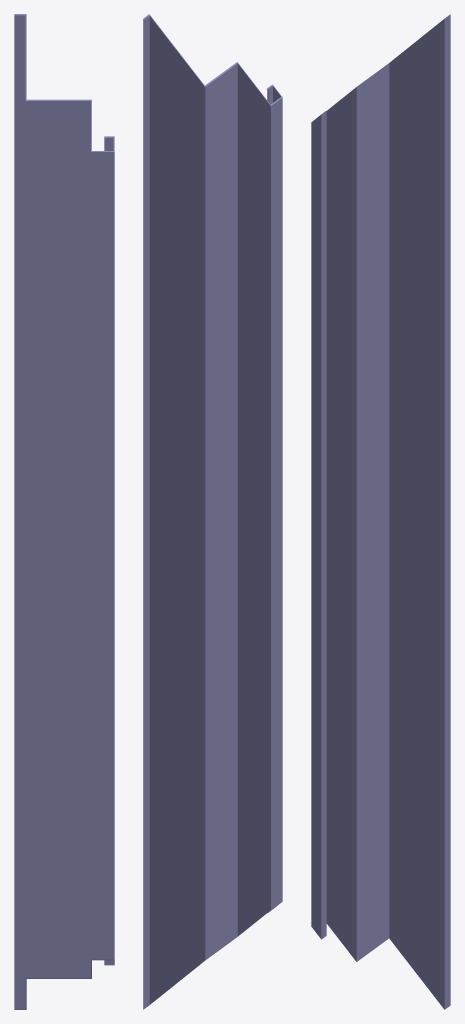
File: shop_3002.obj
3 renders of one model, left to right at view 1: azimuth 90°, elevation 25°; view 2: azimuth 150°, elevation 25°; view 3: azimuth 330°, elevation 25°, orthographic.
Parts seen in each view (by area): view 1: 109500_PL452*2; view 2: 109500_PL452*2; view 3: 109500_PL452*2.
Part boxes in pixels (x1=…): 109500_PL452*2: x1=14, y1=14, x2=114, y2=1009; 109500_PL452*2: x1=143, y1=14, x2=282, y2=1009; 109500_PL452*2: x1=311, y1=14, x2=450, y2=1009.
Bounding box in the file's own units: 210 × 2220 × 203.
